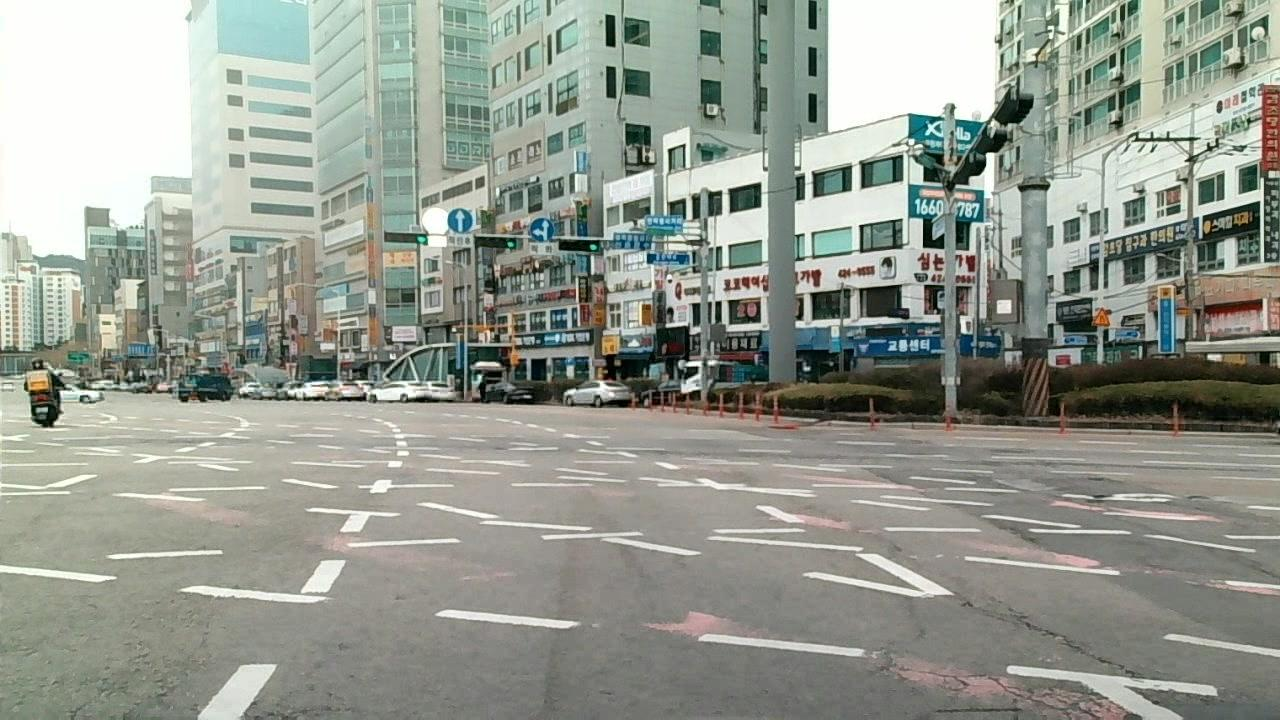vcrack: (981, 601, 1129, 674), (948, 678, 1125, 720), (975, 509, 1035, 547), (845, 517, 896, 548), (869, 469, 913, 486), (1081, 488, 1112, 510)
